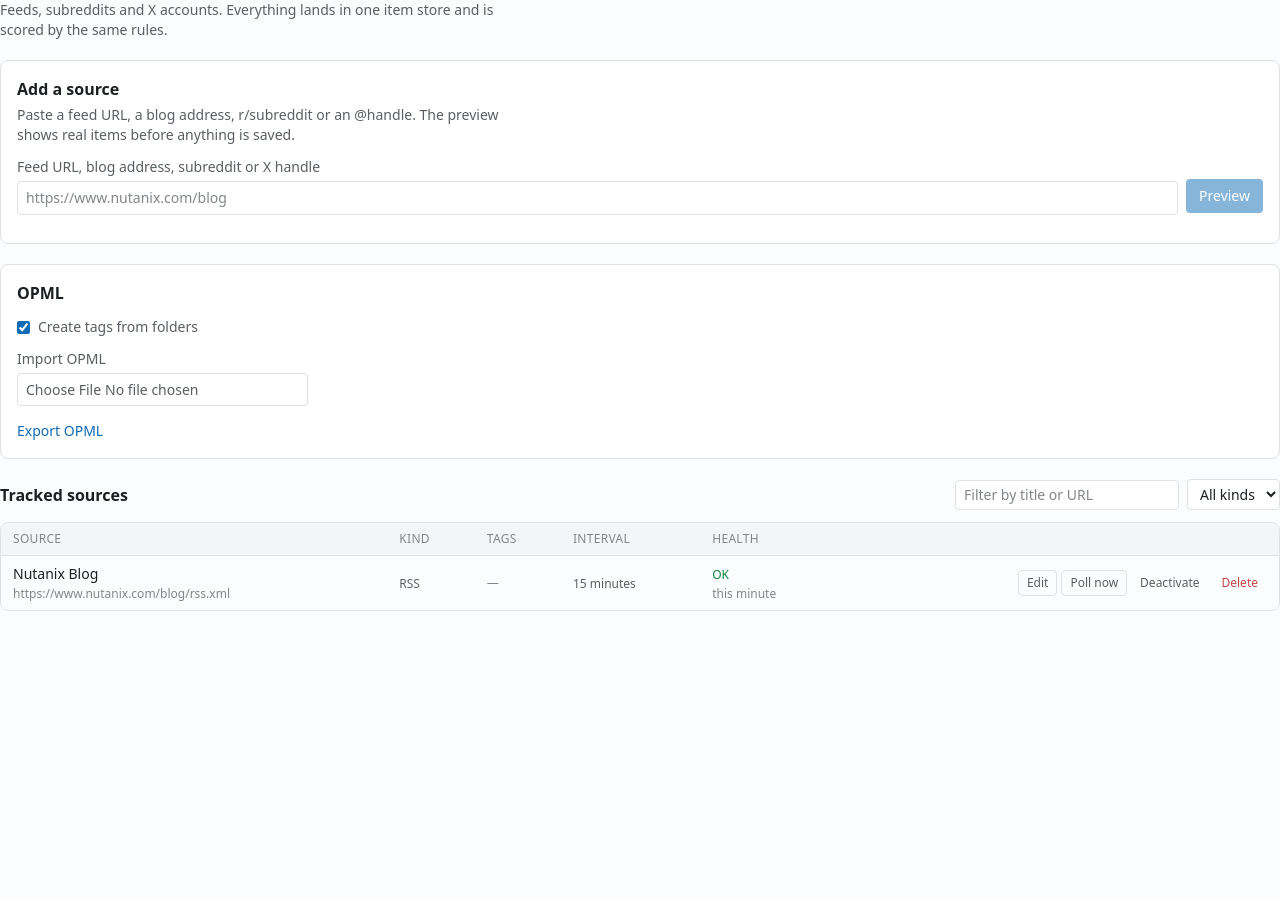
Test case: editing a source › opens on the values the source already has
Click the button "Edit" at (1038, 583), box [1018, 570, 1057, 596]
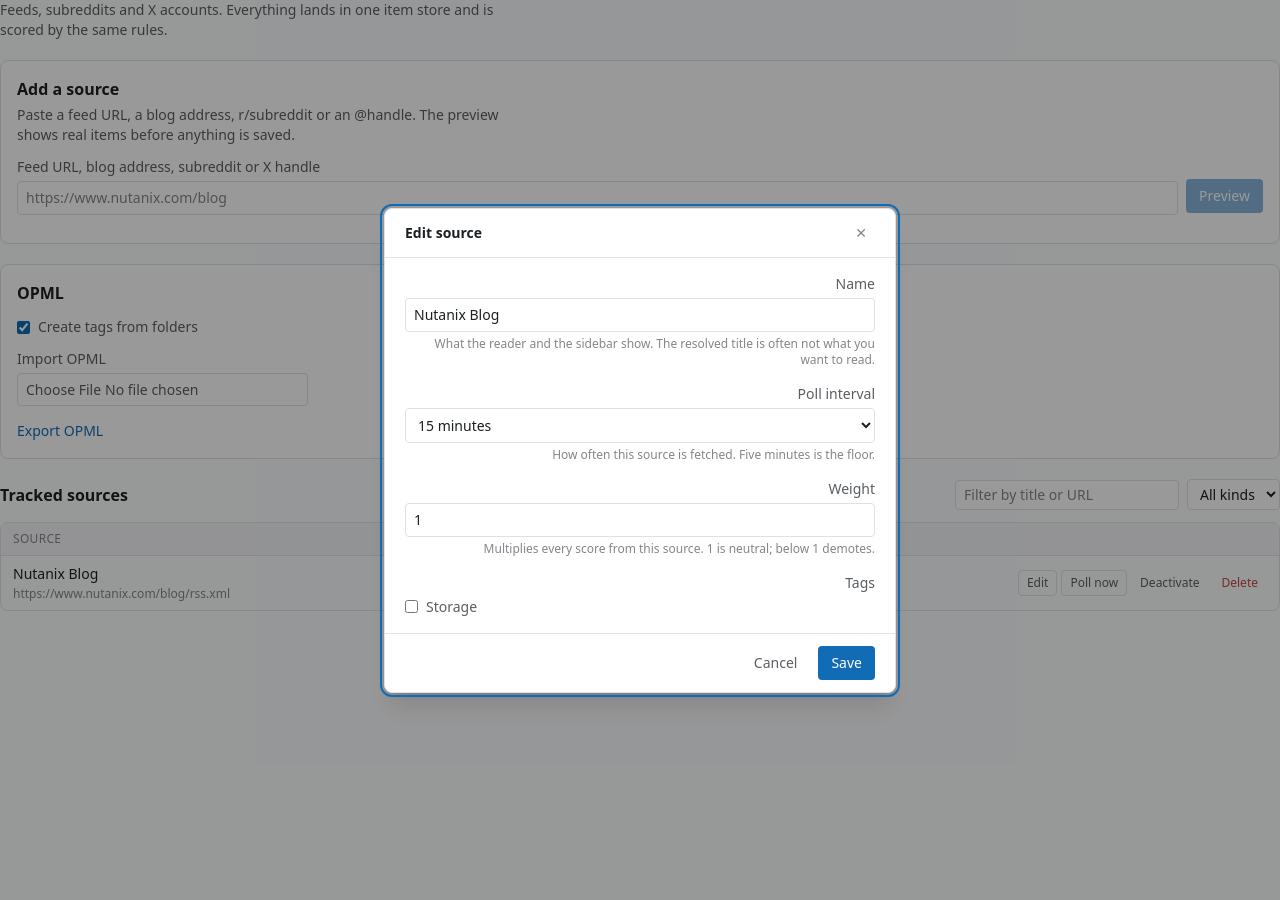
Check: the field labelled "Name" holds "Nutanix Blog", box [405, 298, 875, 332]
Check: the dropdown labelled "Poll interval" shows "15 minutes", box [405, 408, 875, 442]
Check: the number field labelled "Weight" holds "1", box [405, 502, 875, 536]
